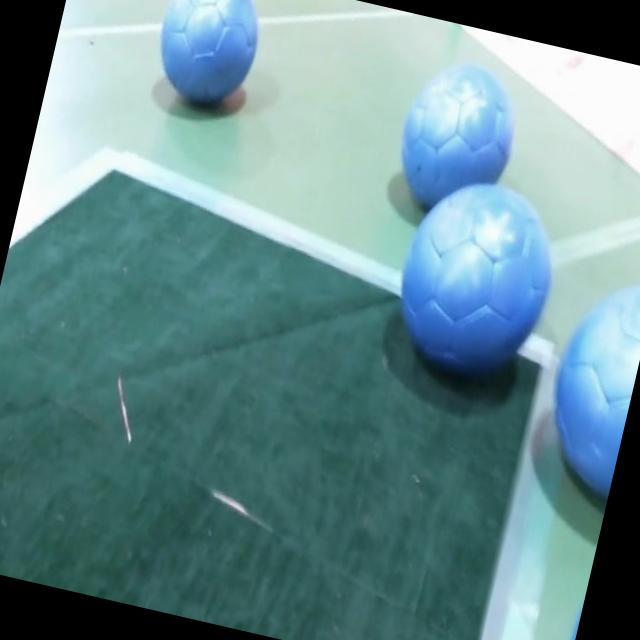blue_ball: (380, 166, 572, 397), (527, 266, 640, 503), (386, 49, 531, 222), (146, 0, 272, 106)
